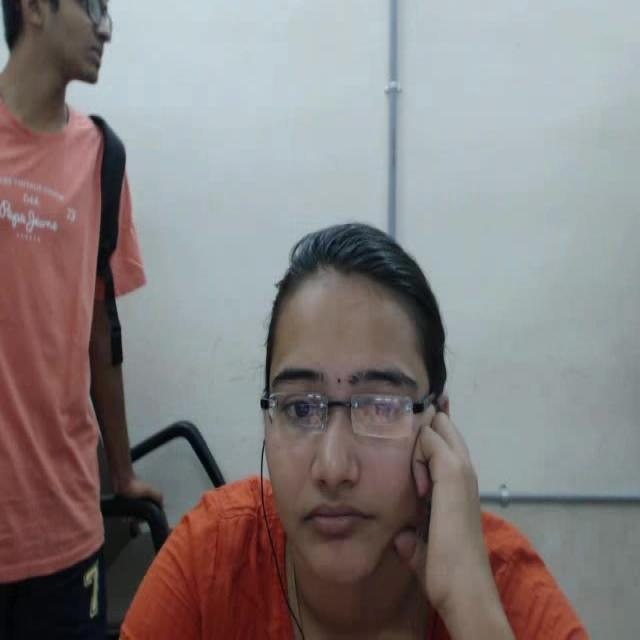Bored: (246, 204, 455, 601)
